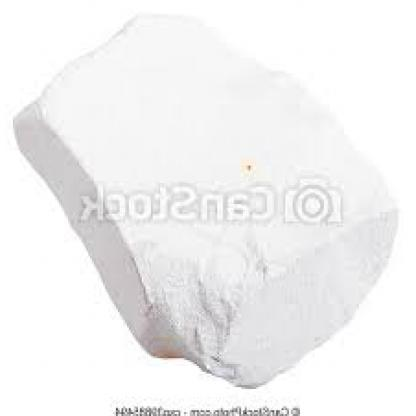Sedimentary_Chalk: (5, 6, 405, 383)
